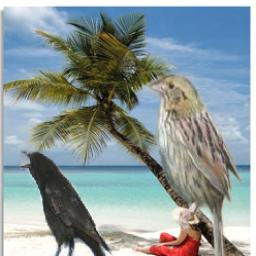Crow: (19, 147, 113, 256)
Sparrow: (147, 71, 241, 256)
